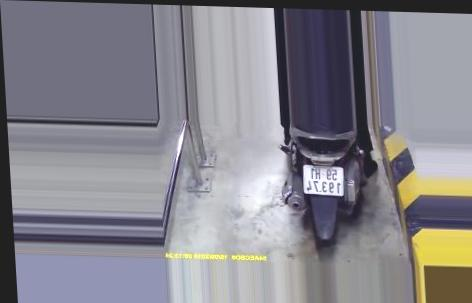License_Plate: (300, 167, 347, 195)
